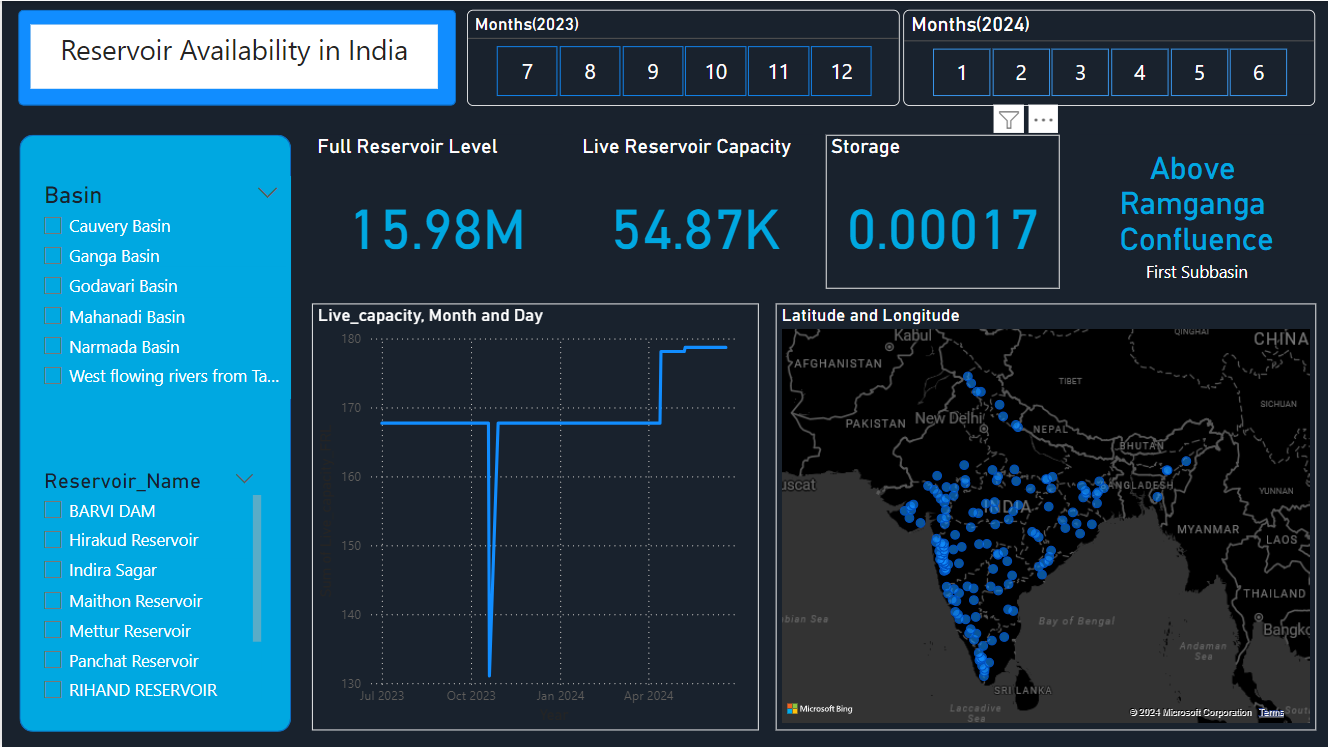

The page's visual inventory and layout, read from the dashboard file:
{"tool":"powerbi","page":{"name":"Page 2","canvas":[1280,720],"ordinal":0},"visuals":[{"type":"slicer","title":"Months(2023)","fields":{"Values":["project.Month"]},"box":[448.8,8.8,417.5,92.5],"z":0},{"type":"slicer","title":"Months(2024)","fields":{"Values":["project.Month"]},"box":[870,8.8,397.5,92.5],"z":1000},{"type":"map","fields":{"Y":["project.Latitude"],"X":["project.Longitude"]},"box":[746.5,292.3,521.4,411.7],"z":2000},{"type":"shape","box":[16.5,129,262.1,576.3],"z":3000},{"type":"slicer","fields":{"Values":["project.Basin"]},"box":[27.4,168.8,251.1,215.4],"z":4000},{"type":"slicer","fields":{"Values":["project.Reservoir_name"]},"box":[27.4,446,227.8,238.8],"z":5000},{"type":"lineChart","title":"Live_capacity, Month and Day","fields":{"Category":["project.Date.Variation.Date Hierarchy.Year","project.Date.Variation.Date Hierarchy.Quarter","project.Date.Variation.Date Hierarchy.Month","project.Date.Variation.Date Hierarchy.Day"],"Y":["Sum(project.Live_capacity_FRL)"]},"box":[299.1,292.3,430.9,411.7],"z":6000},{"type":"card","title":"Full Reservoir Level","fields":{"Values":["Sum(project.Full_reservoir_level)"]},"box":[299.1,129,241.5,148.2],"z":7000},{"type":"card","title":"Live Reservoir Capacity","fields":{"Values":["Sum(project.Live_capacity_FRL)"]},"box":[554.4,129,227.8,148.2],"z":8000},{"type":"card","title":"Storage","fields":{"Values":["Min(project.Storage)"]},"box":[794.5,129,226.4,148.2],"z":9000},{"type":"card","fields":{"Values":["Min(project.Subbasin)"]},"box":[1038.8,129,229.2,148.2],"z":10000},{"type":"shape","box":[16.2,8.8,422.5,92.5],"z":11000},{"type":"textbox","box":[27.5,22.5,392.5,61.2],"z":12000},{"type":"shape","box":[27.5,22.5,392.5,61.2],"z":13000},{"type":"textbox","box":[27.5,22.5,392.5,61.2],"z":14000}]}

Visuals, with their boxes in screenshot pixels (x1, y1, x2, y2), scaled from the page's 1280x720 canvas onto the 1328x747 screenshot:
"Months(2023)" slicer: pyautogui.locateOnScreen(466, 9, 899, 105)
"Months(2024)" slicer: pyautogui.locateOnScreen(903, 9, 1315, 105)
map - project.Latitude x project.Longitude: pyautogui.locateOnScreen(774, 303, 1315, 730)
shape: pyautogui.locateOnScreen(17, 134, 289, 732)
slicer - project.Basin: pyautogui.locateOnScreen(28, 175, 289, 399)
slicer - project.Reservoir_name: pyautogui.locateOnScreen(28, 463, 265, 710)
"Live_capacity, Month and Day" lineChart: pyautogui.locateOnScreen(310, 303, 757, 730)
"Full Reservoir Level" card: pyautogui.locateOnScreen(310, 134, 561, 288)
"Live Reservoir Capacity" card: pyautogui.locateOnScreen(575, 134, 812, 288)
"Storage" card: pyautogui.locateOnScreen(824, 134, 1059, 288)
card - Min(project.Subbasin): pyautogui.locateOnScreen(1078, 134, 1316, 288)
shape: pyautogui.locateOnScreen(17, 9, 455, 105)
textbox: pyautogui.locateOnScreen(29, 23, 436, 87)
shape: pyautogui.locateOnScreen(29, 23, 436, 87)
textbox: pyautogui.locateOnScreen(29, 23, 436, 87)
